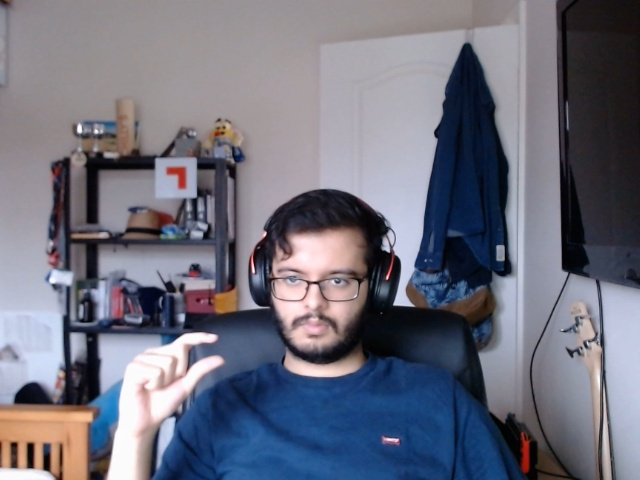Small: (106, 318, 223, 437)
